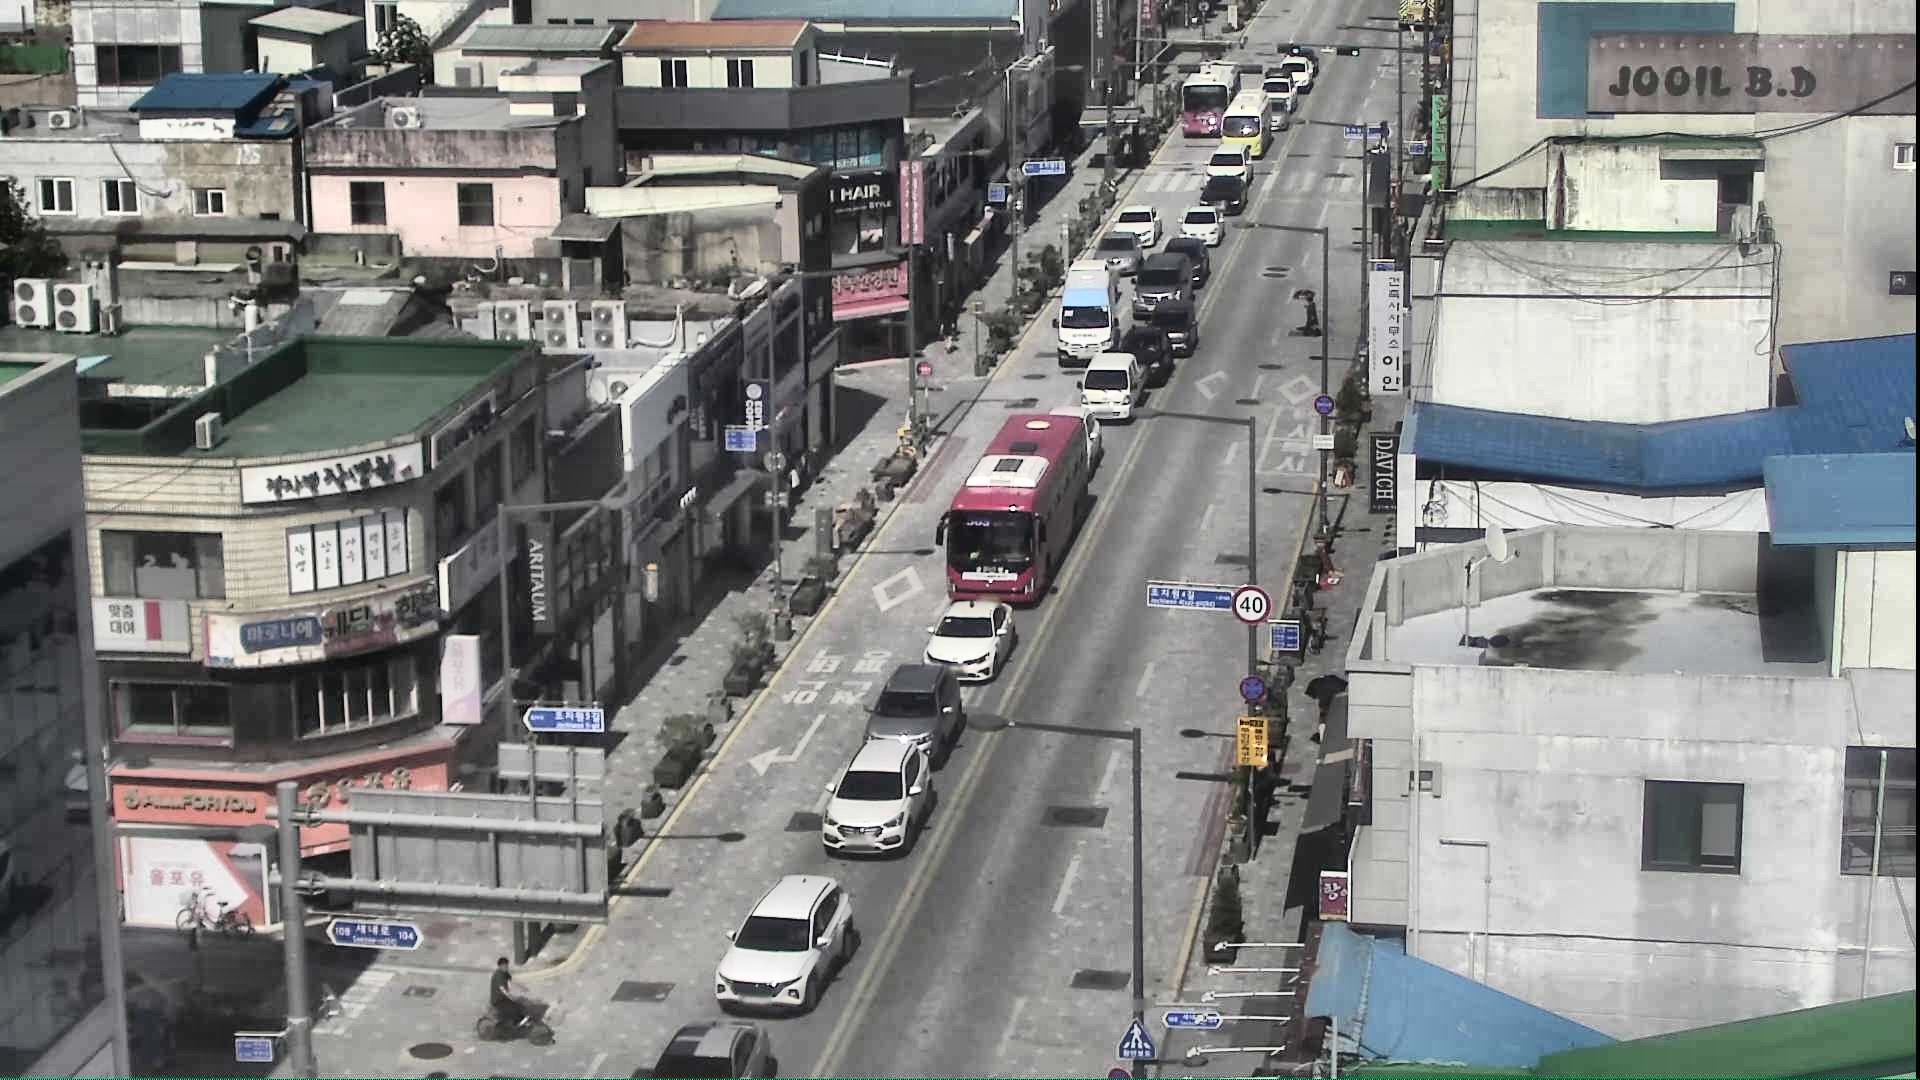jaywalk: (488, 955, 533, 1042)
sidewalk: (940, 309, 957, 357)
um_jaywalk: (1292, 284, 1327, 339)
um_sidewalk: (1303, 673, 1353, 745)
